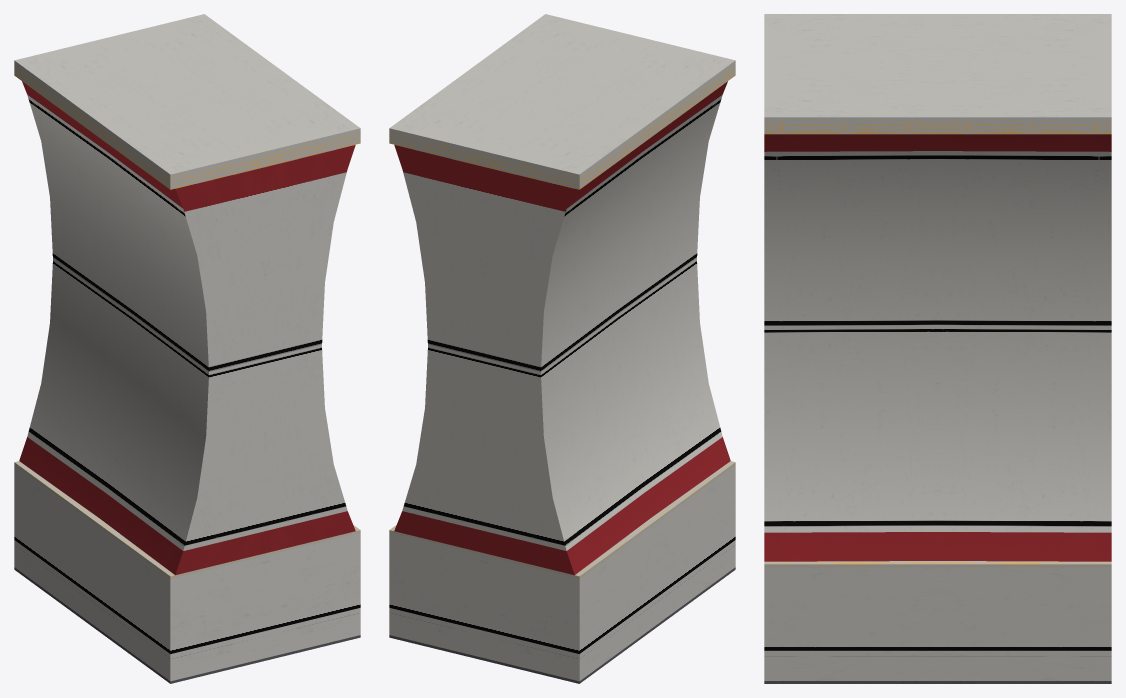
The model's file is G_Env_Arch_Wall_02_ConnectorDoubleSided.fbx.
3 views of the same model, side by side, from view 1: azimuth 30°, elevation 25°; view 2: azimuth 150°, elevation 25°; view 3: azimuth 270°, elevation 25° (orthographic). The views are drawn at different scales.
Parts seen in each view (by area): view 1: G_Env_Arch_Wall_02_ConnectorDoubleSided; view 2: G_Env_Arch_Wall_02_ConnectorDoubleSided; view 3: G_Env_Arch_Wall_02_ConnectorDoubleSided.
Boxes of the visible parts, bbox=[...] form: G_Env_Arch_Wall_02_ConnectorDoubleSided: bbox=[14, 14, 360, 683]; G_Env_Arch_Wall_02_ConnectorDoubleSided: bbox=[389, 14, 735, 683]; G_Env_Arch_Wall_02_ConnectorDoubleSided: bbox=[764, 14, 1111, 683].
Bounding box in the file's own units: 352 × 900 × 500.
